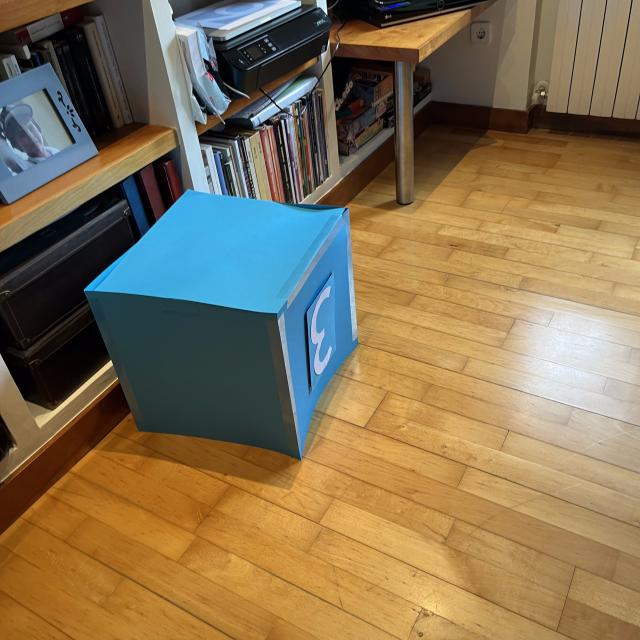box: (81, 185, 364, 462)
